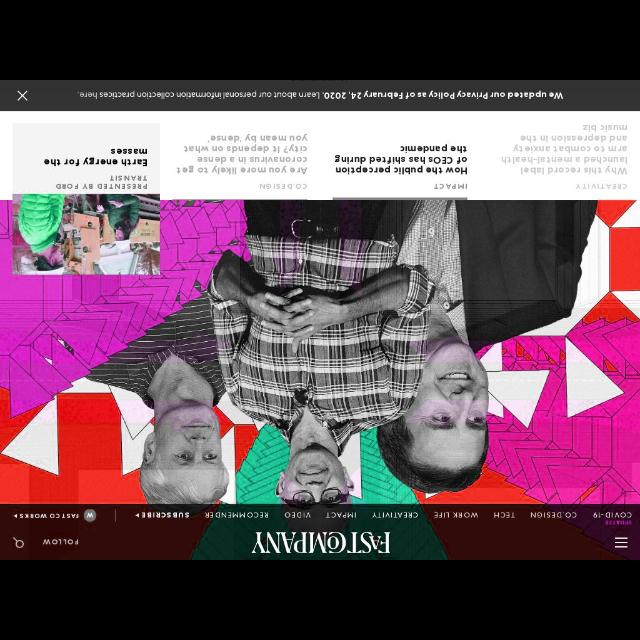backgroundimage: (0, 201, 638, 504)
icon: (613, 537, 629, 549), (11, 536, 25, 548), (17, 90, 28, 102), (12, 514, 18, 518), (135, 513, 139, 517)
image: (12, 194, 160, 276), (84, 508, 96, 522)
multitab: (132, 509, 634, 526)
text: (500, 122, 628, 176), (174, 132, 308, 176), (77, 90, 566, 100), (334, 142, 468, 176), (252, 532, 391, 554), (42, 148, 148, 168), (54, 174, 148, 190), (574, 181, 628, 191), (258, 182, 308, 190), (204, 512, 270, 518), (19, 513, 79, 519), (41, 538, 81, 546), (529, 512, 577, 518), (433, 182, 469, 190), (142, 512, 188, 518), (372, 512, 418, 518), (434, 512, 478, 518), (593, 511, 631, 517), (326, 512, 356, 518), (284, 512, 312, 518), (493, 512, 515, 518), (604, 520, 632, 524)
toolbar: (1, 504, 640, 560)
